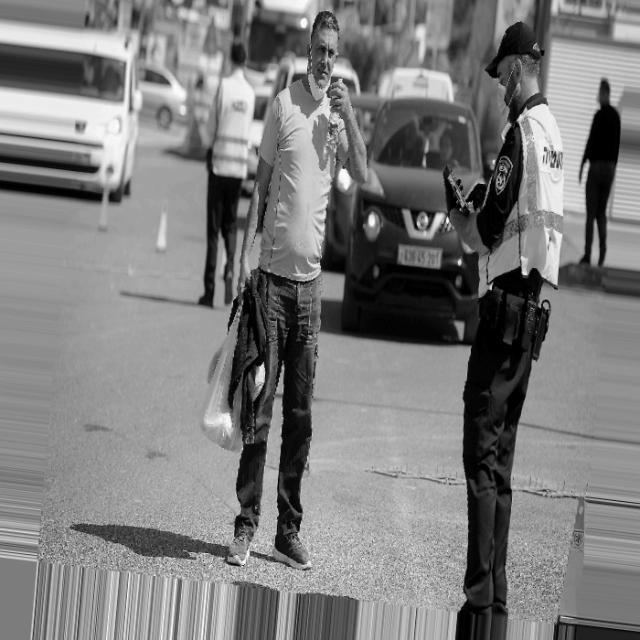hairnet: (306, 40, 336, 100)
